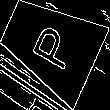P_NW: (23, 17, 78, 73)
